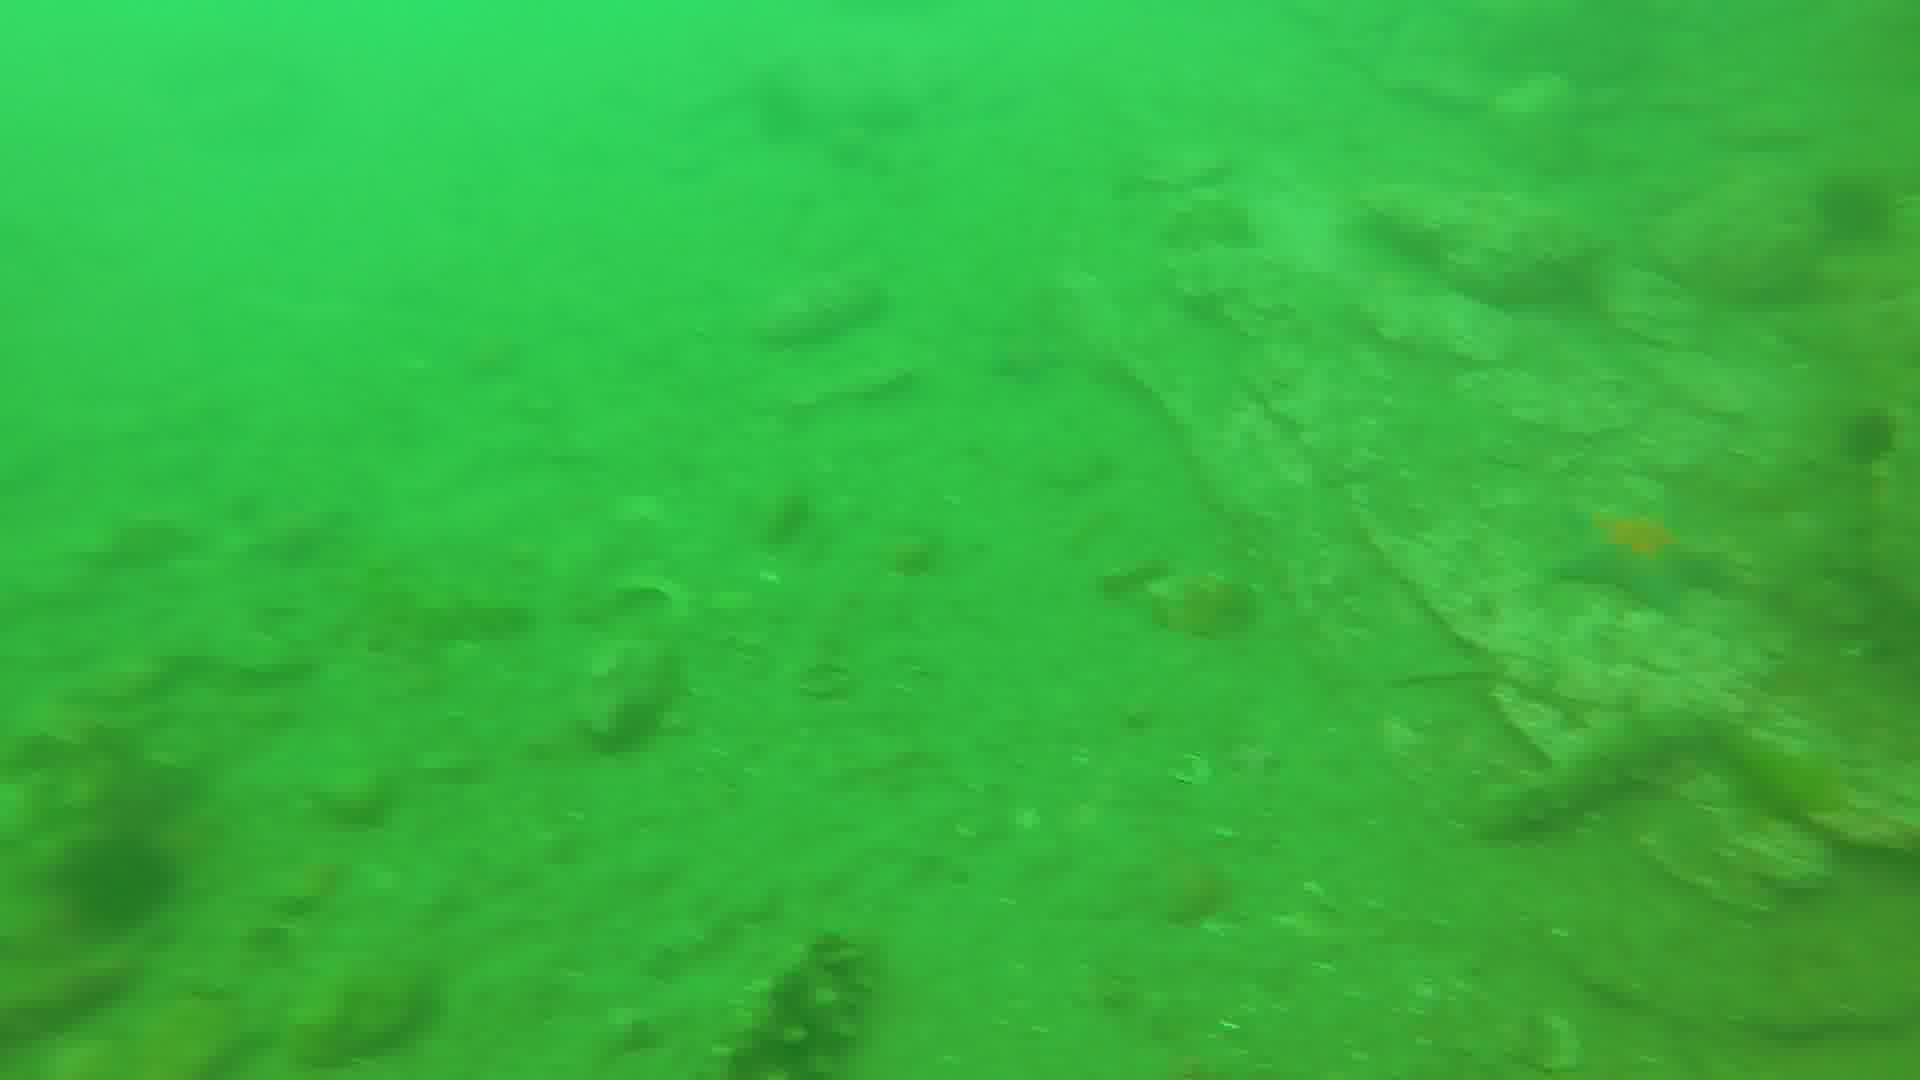echinus: (73, 832, 178, 934)
holothurian: (1469, 705, 1705, 843), (731, 928, 862, 1080)
starfish: (1561, 508, 1726, 612)
